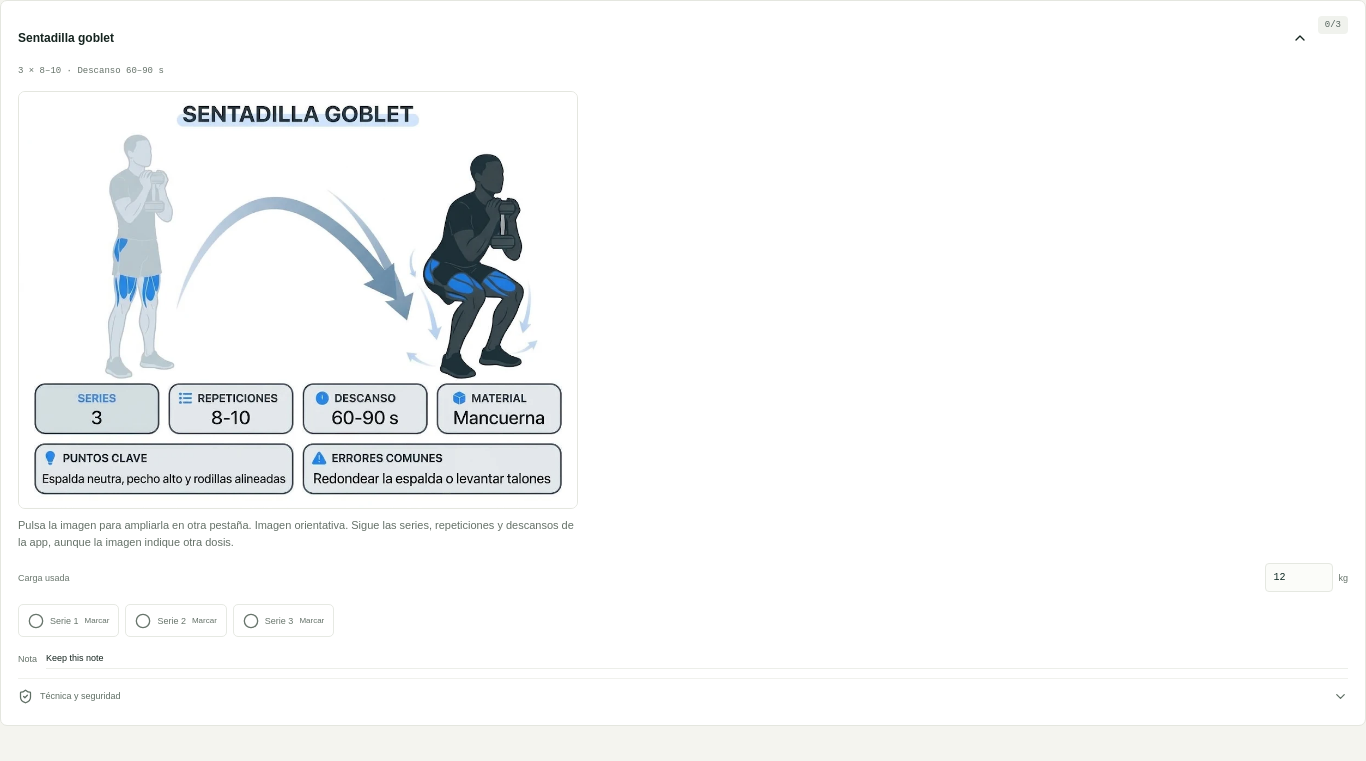
ExerciseCard folding › folds only after the final set, moves focus to the title and allows corrections
The width and height of the screenshot is (1366, 761).
Click the button "Serie 1 Marcar": click(69, 621) [18, 604, 119, 637]
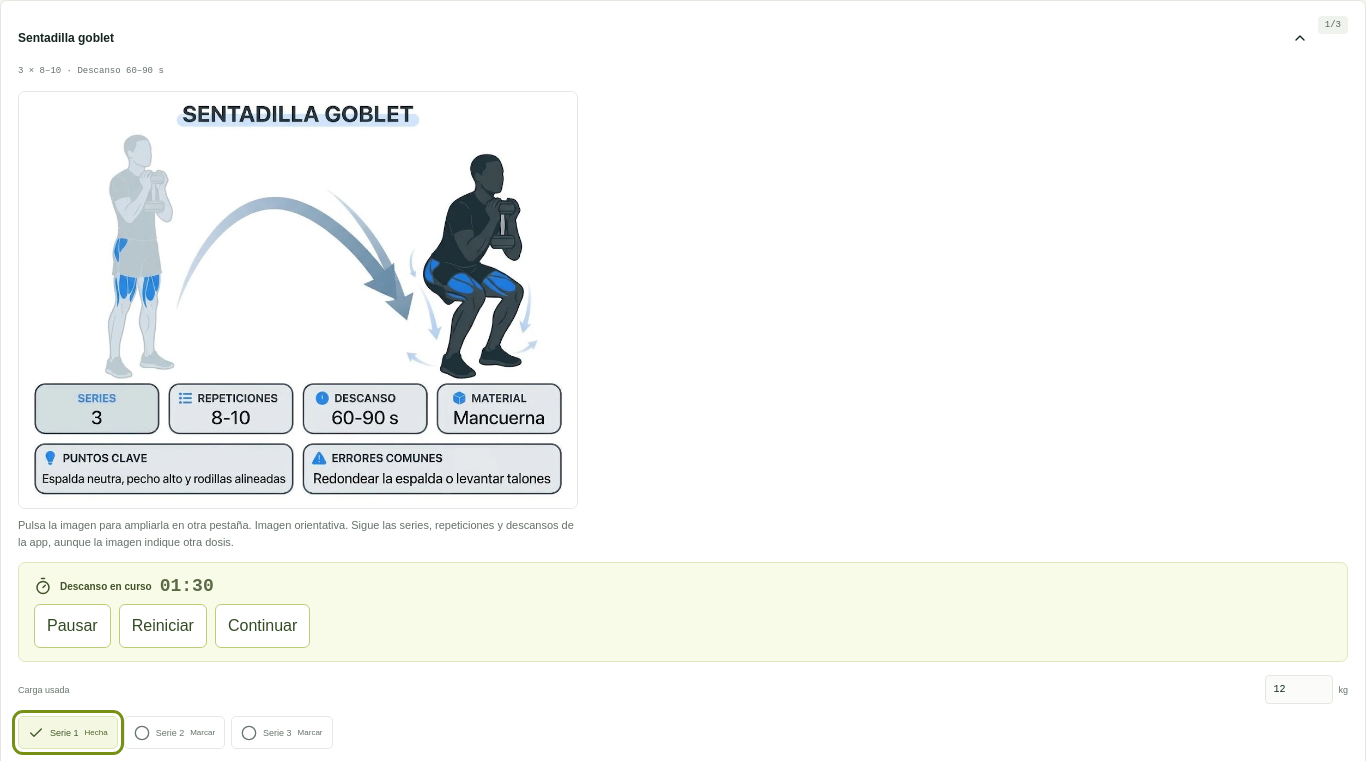
Click the button "Serie 2 Marcar": click(174, 733) [124, 716, 225, 749]
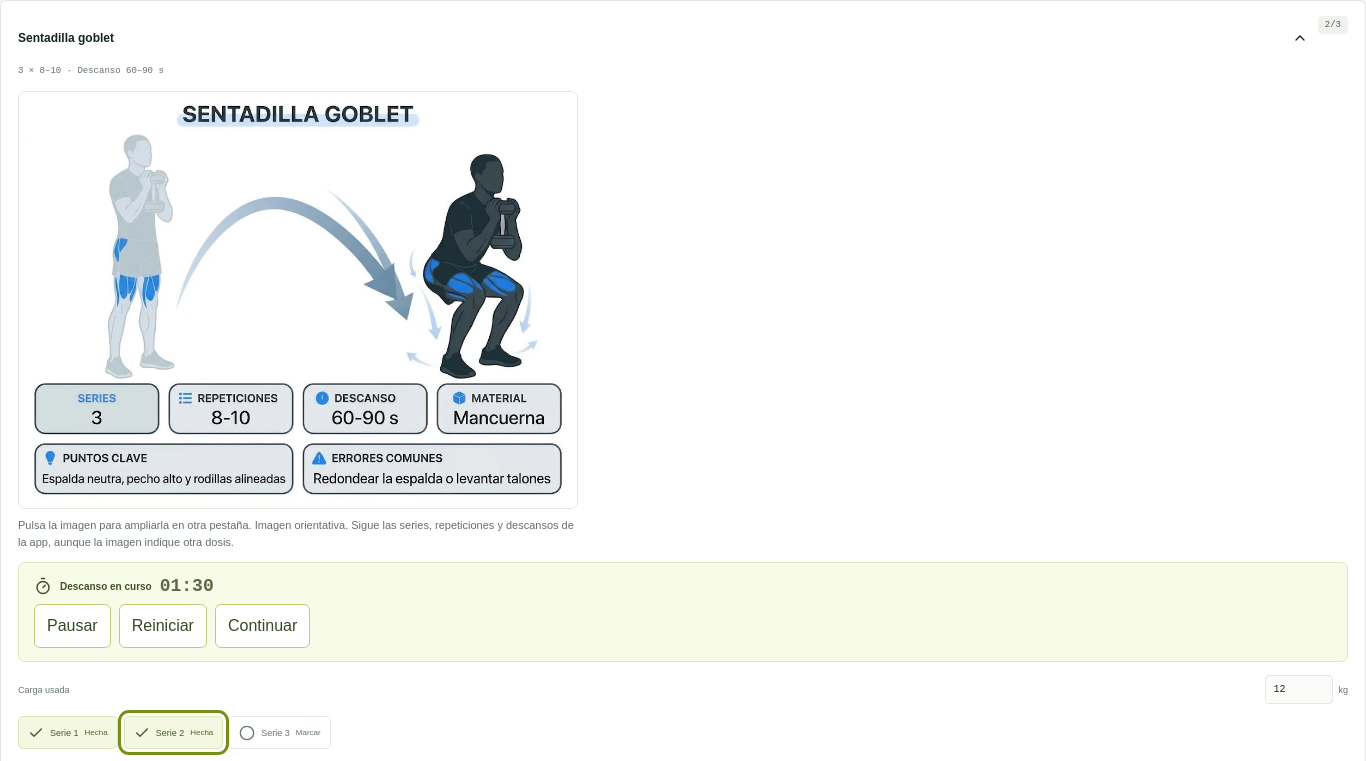
Click the button "Serie 3 Marcar": click(280, 733) [229, 716, 331, 749]
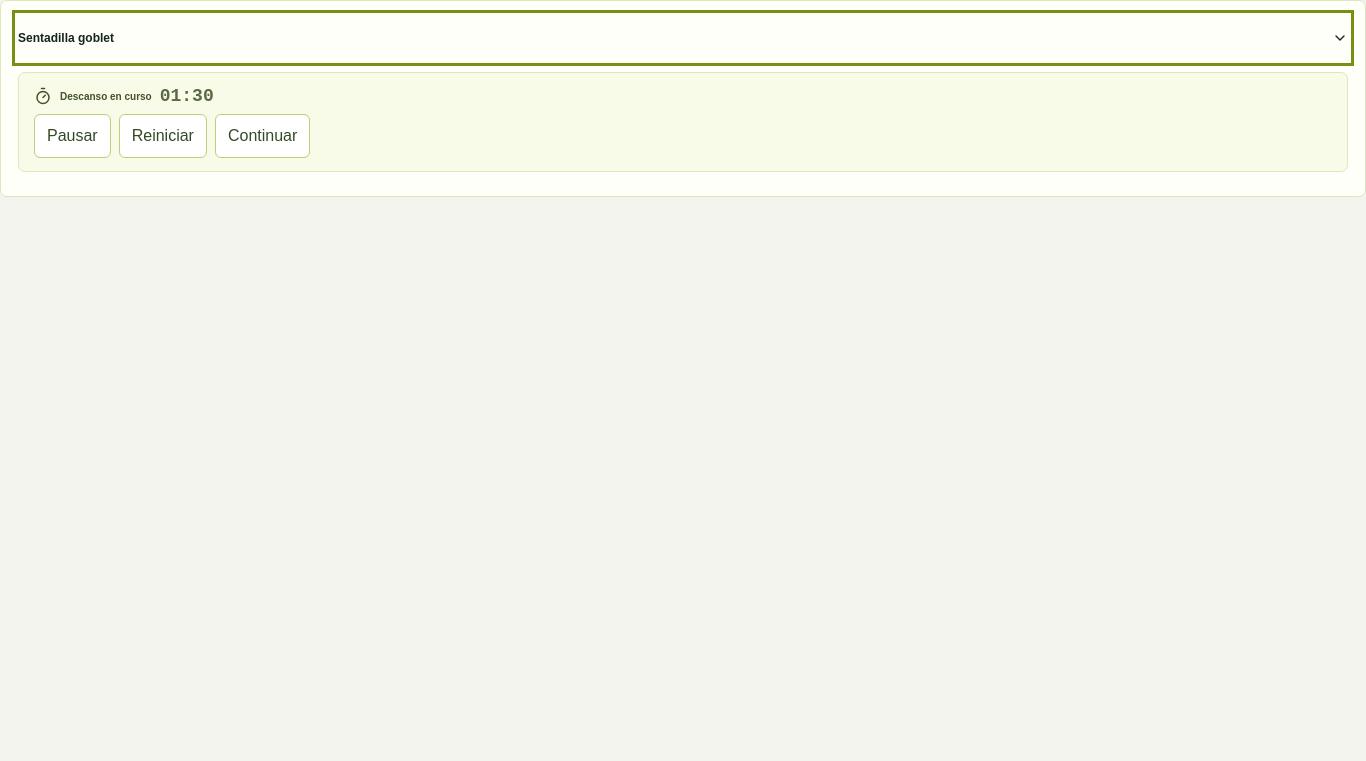
Expected: the button "Sentadilla goblet" is collapsed, [18, 16, 1348, 60]
Expected: the picture is gone
Expected: the text "Serie" is gone
Press Enter
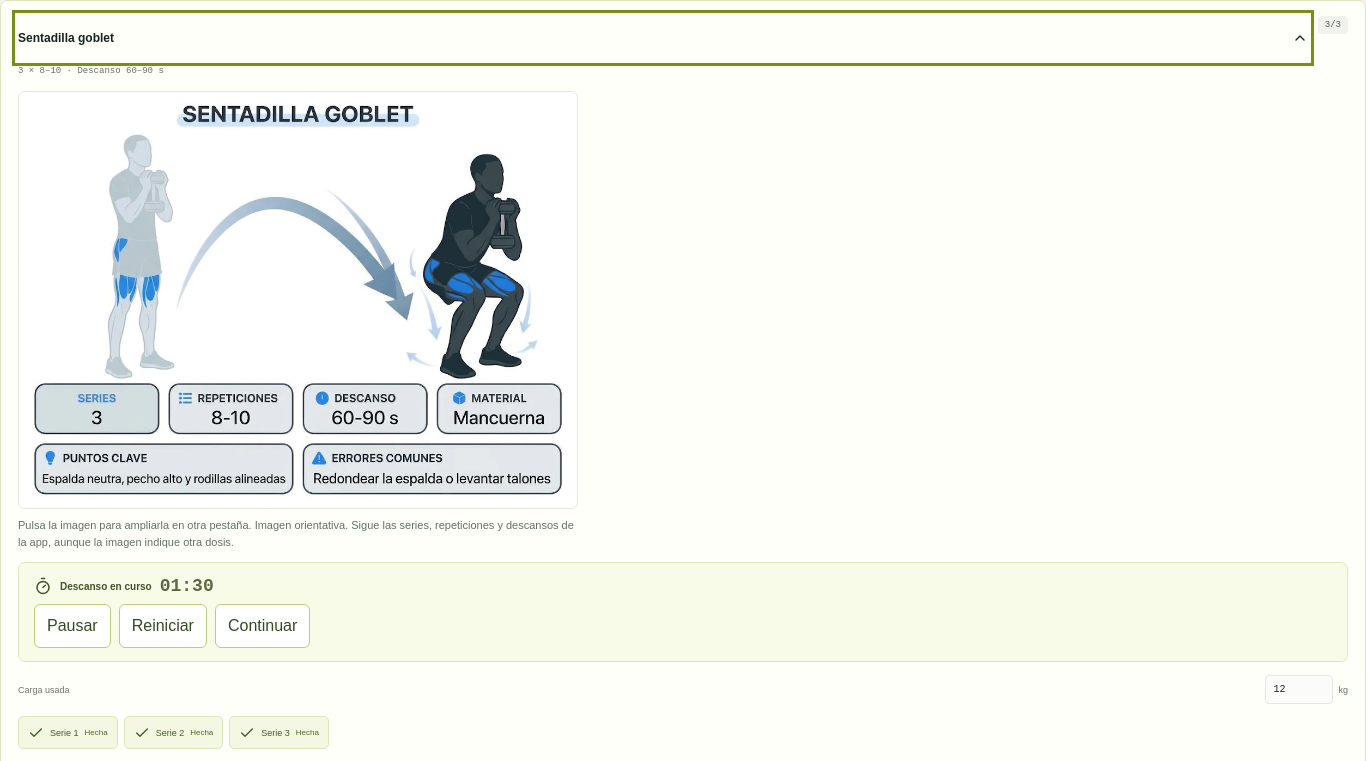
Expected: the number field holds "12", [1266, 675, 1334, 704]
Click the button "Serie 3 Hecha": click(279, 733) [229, 716, 329, 749]
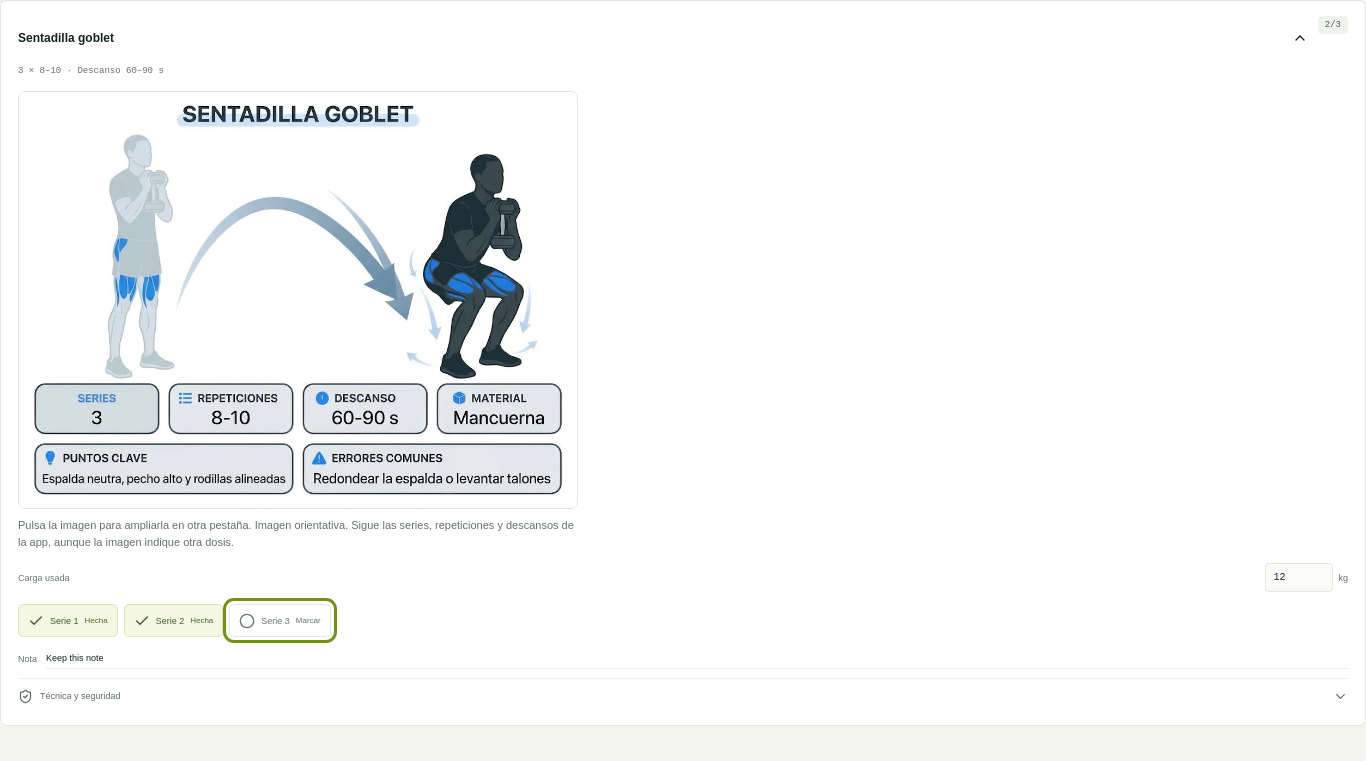
Click the button "Serie 3 Marcar": click(280, 621) [229, 604, 331, 637]
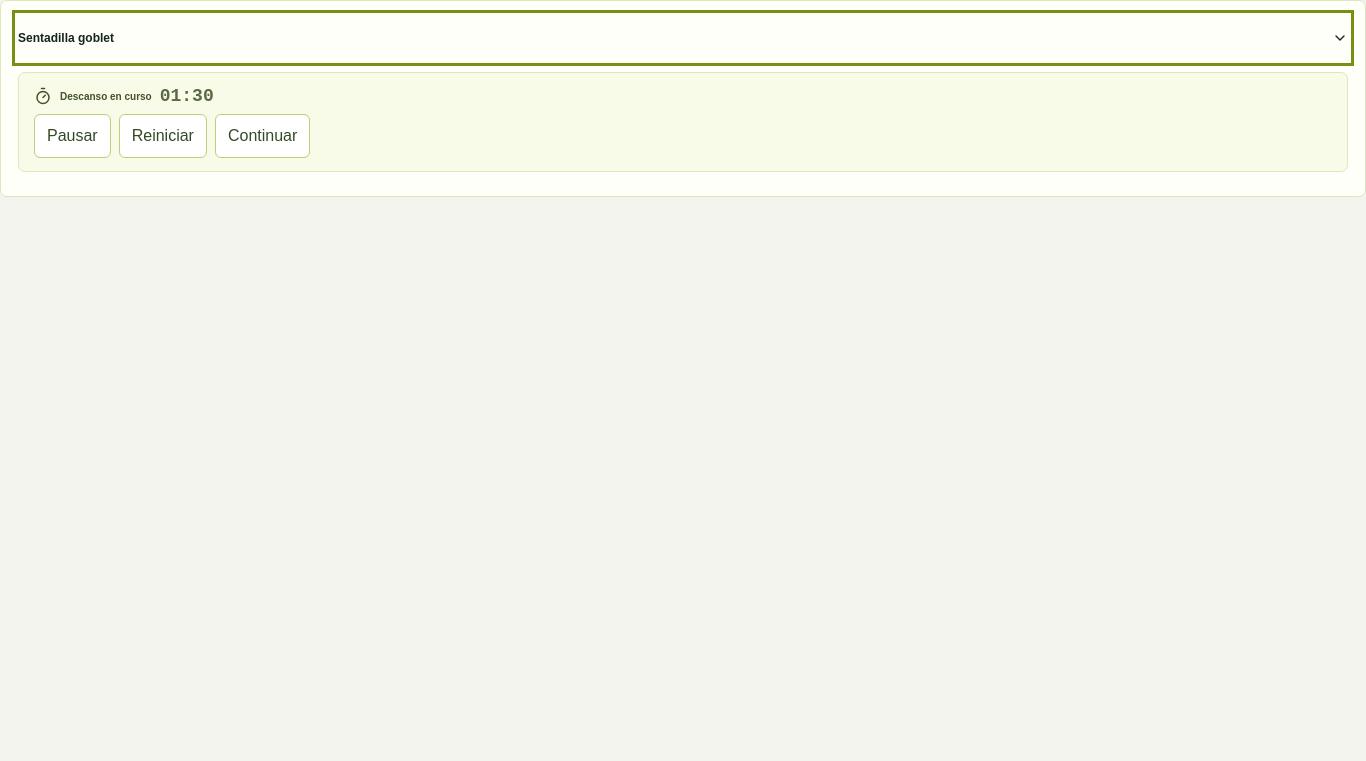
Expected: the button "Sentadilla goblet" is collapsed, [18, 16, 1348, 60]
